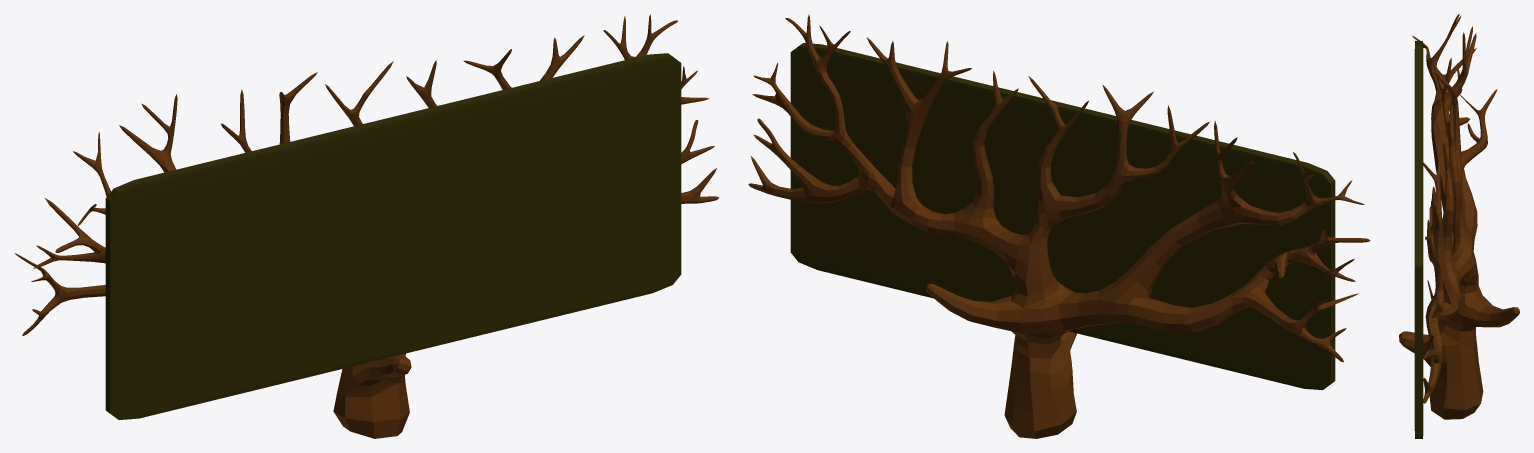
The model's file is fieldBase.glb.
The picture shows the model from 3 angles, left to right: view 1: azimuth 30°, elevation 25°; view 2: azimuth 150°, elevation 25°; view 3: azimuth 270°, elevation 25°; orthographic projection. The views are drawn at different scales.
Visible parts, largest first — view 1: billboard.002, tree.004; view 2: billboard.002, tree.004; view 3: tree.004, billboard.002.
Boxes of the visible parts, left/top/right/bottom form: billboard.002: left=105, top=53, right=681, bottom=419; tree.004: left=14, top=14, right=718, bottom=438; billboard.002: left=790, top=43, right=1335, bottom=390; tree.004: left=748, top=14, right=1370, bottom=438; tree.004: left=1399, top=14, right=1519, bottom=419; billboard.002: left=1414, top=41, right=1423, bottom=438.
Bounding box in the file's own units: 14.27 × 7.82 × 2.8.
